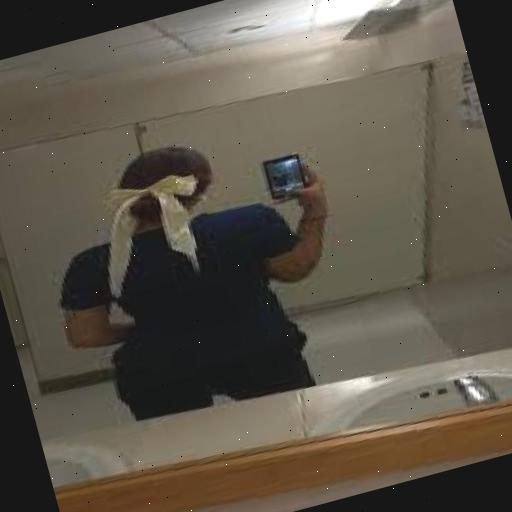phone: (261, 144, 337, 214)
